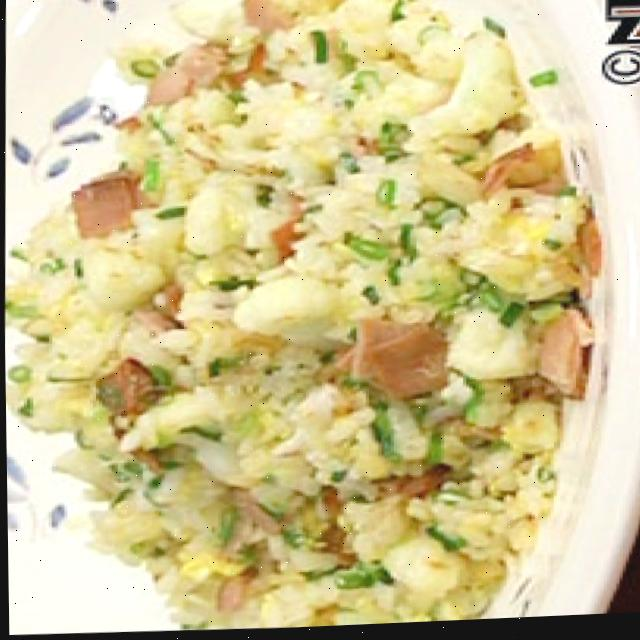米饭主食: (0, 0, 599, 640)
